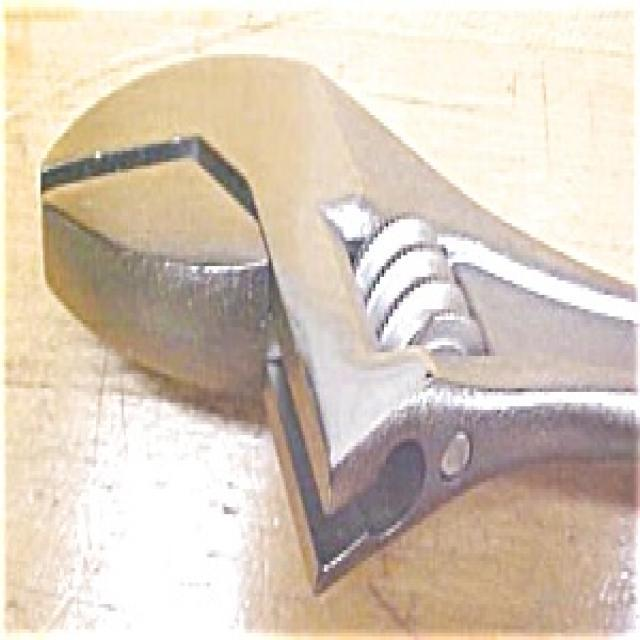wrench: (30, 40, 640, 600)
